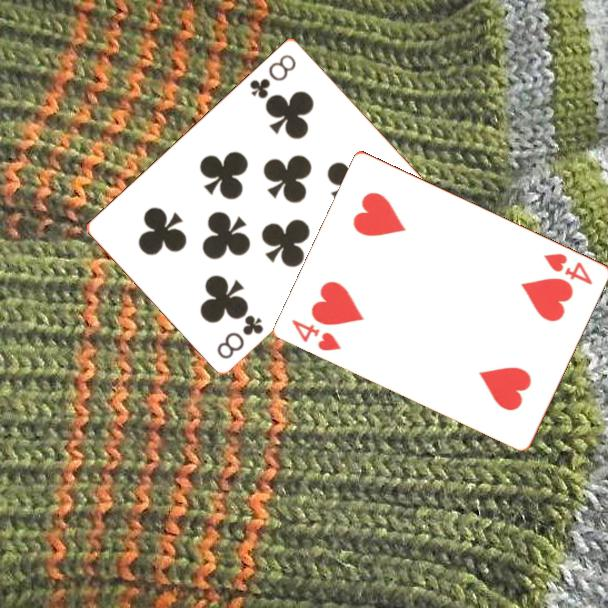c08: (246, 50, 299, 101), (213, 311, 266, 362)
h04: (540, 249, 596, 288), (289, 315, 345, 354)
